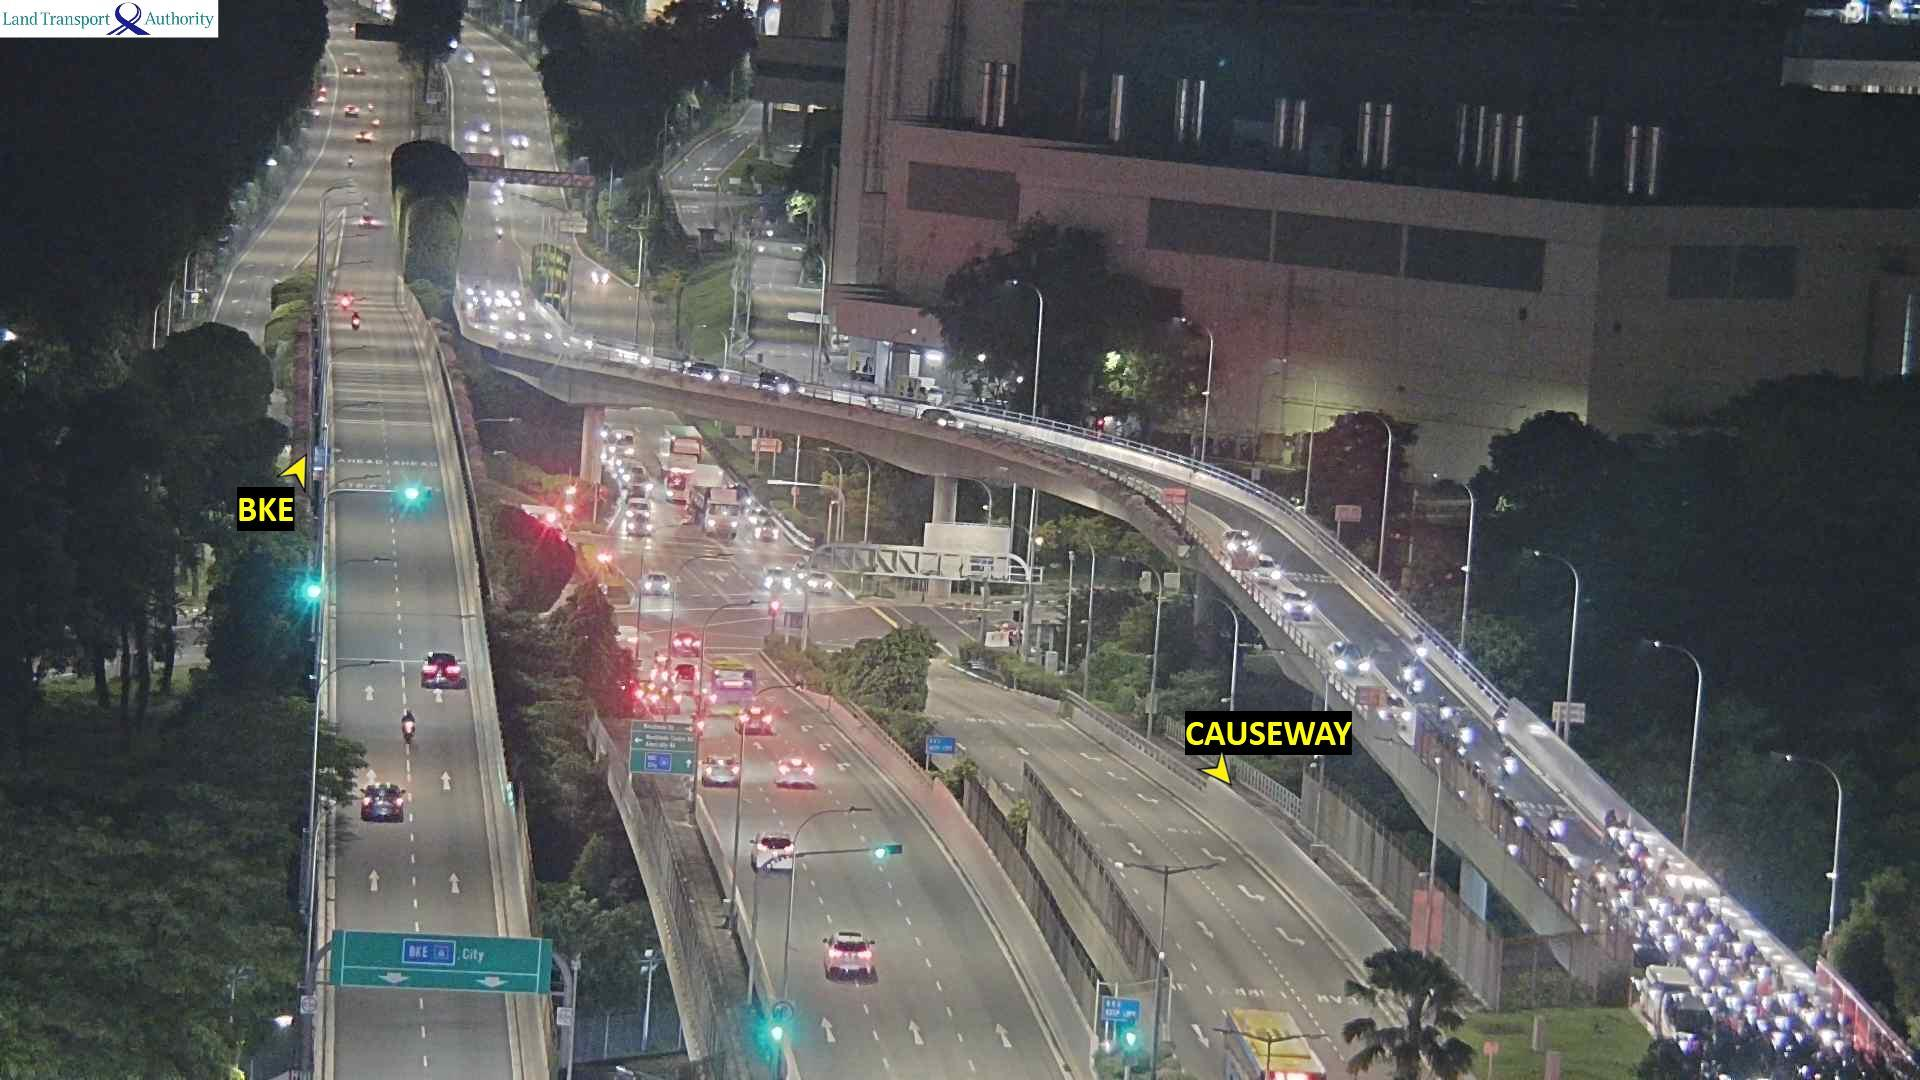vehicle-causeway-johor: (1224, 1011, 1328, 1080), (692, 480, 738, 538), (1642, 969, 1695, 1013), (1663, 998, 1705, 1038), (1325, 637, 1367, 675), (1275, 588, 1319, 625), (667, 458, 700, 498), (666, 425, 702, 458), (1636, 935, 1671, 965), (756, 376, 793, 398), (1226, 530, 1257, 556), (684, 365, 729, 382), (1377, 695, 1404, 723), (754, 517, 781, 543), (767, 377, 807, 394), (1677, 940, 1700, 968), (741, 496, 765, 521), (1501, 749, 1520, 778), (913, 407, 948, 423), (928, 410, 959, 429), (1408, 667, 1427, 698), (1452, 716, 1470, 746), (567, 336, 599, 353), (1433, 696, 1455, 721), (1725, 940, 1749, 961), (1731, 984, 1753, 1006), (1547, 812, 1563, 840), (1407, 630, 1424, 655), (1639, 914, 1656, 939), (476, 307, 501, 324), (1589, 856, 1604, 885), (1681, 898, 1702, 918), (1622, 884, 1639, 907), (1702, 951, 1721, 971), (1395, 657, 1407, 686), (1662, 902, 1675, 927), (472, 286, 489, 305), (518, 319, 533, 340), (1650, 894, 1663, 915), (1698, 923, 1713, 942), (1602, 808, 1614, 831), (1618, 828, 1630, 851), (1730, 961, 1743, 981), (1760, 968, 1772, 989), (513, 291, 524, 315), (497, 289, 509, 309), (547, 331, 563, 345), (1490, 711, 1499, 735), (1618, 860, 1630, 878), (1700, 967, 1712, 984)
vehicle-causeway-singapore: (824, 931, 884, 985), (359, 785, 405, 820), (707, 665, 754, 694), (762, 836, 804, 866), (754, 836, 789, 870), (360, 800, 405, 825), (781, 758, 814, 791), (425, 653, 455, 682), (423, 665, 459, 688), (736, 709, 771, 733), (756, 855, 790, 876), (707, 769, 737, 789), (405, 711, 418, 736), (353, 218, 375, 228), (342, 289, 349, 307), (352, 311, 359, 328)
